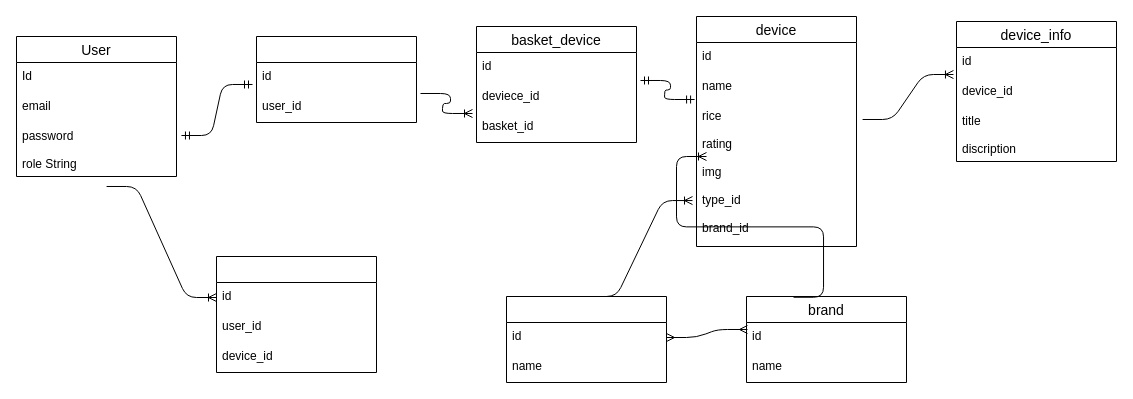
Image size: 1133x399. Some labels were removed from this diagram. The shapes that lost their labels are listed below. From the top down, each one's box as (x1, y1, x2, y2) in pixels, then its label:
(256, 36, 416, 122): basket
(216, 256, 376, 372): rating
(506, 296, 666, 382): type
